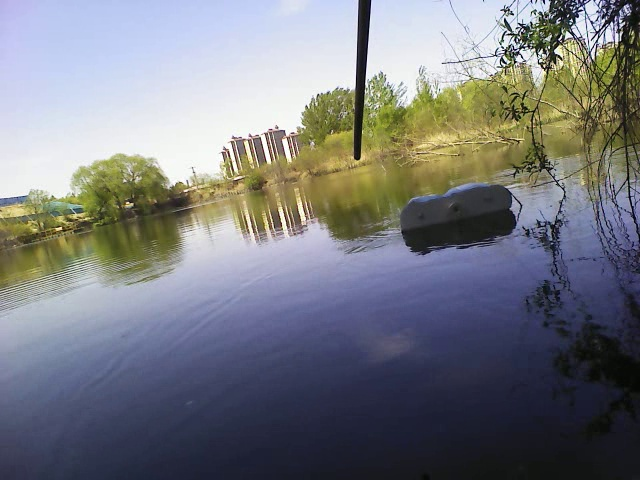iceberg: (396, 179, 511, 233)
